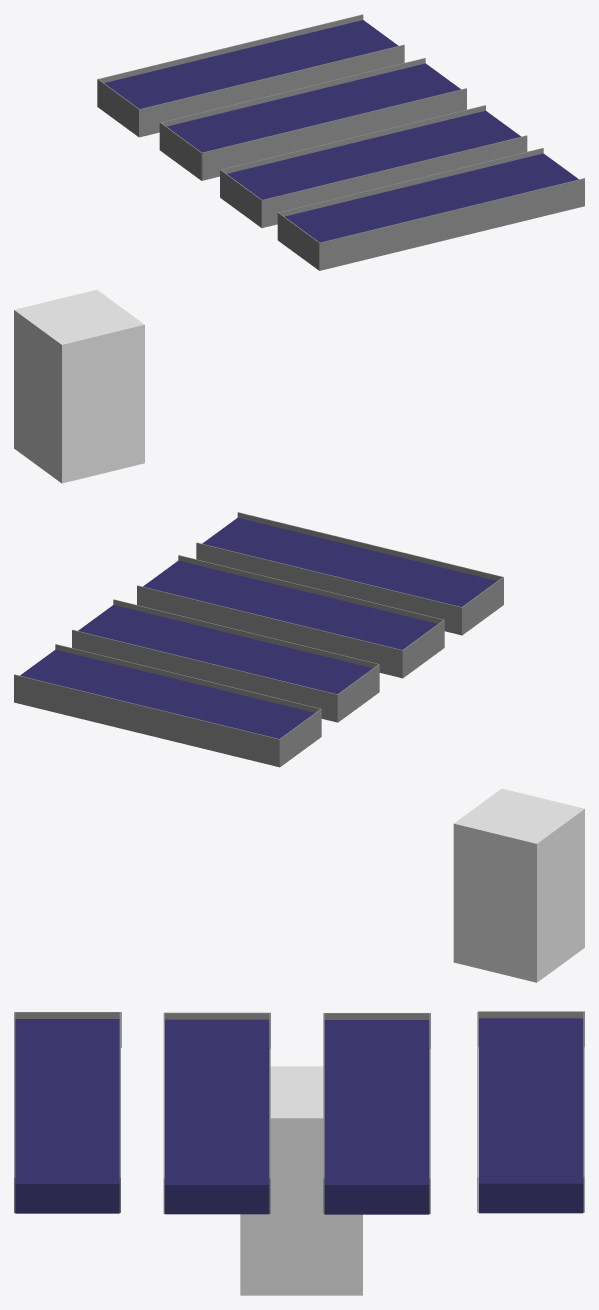
File: cell_layout.glb
The picture shows the model from 3 angles, top to bottom: view 1: azimuth 30°, elevation 25°; view 2: azimuth 150°, elevation 25°; view 3: azimuth 270°, elevation 25°; orthographic projection. The views are drawn at different scales.
Parts seen in each view (by area): view 1: Esteira1 (×4), ChapaFrontal.003 (×4), Pedestal, ChapaFrontal.001 (×4), ChapaFrontal (×4); view 2: Esteira1 (×4), ChapaFrontal.001 (×4), Pedestal, ChapaFrontal.003 (×4), ChapaFrontal (×4); view 3: Esteira1 (×4), Pedestal, ChapaFrontal (×4), ChapaFrontal.003 (×4), ChapaFrontal.001 (×4).
Part boxes in pixels (x1=…): Esteira1 (×4): x1=104, y1=20, x2=578, y2=270; ChapaFrontal.003 (×4): x1=139, y1=44, x2=584, y2=270; Pedestal: x1=14, y1=289, x2=144, y2=483; ChapaFrontal.001 (×4): x1=99, y1=14, x2=543, y2=216; ChapaFrontal (×4): x1=97, y1=79, x2=319, y2=270; Esteira1 (×4): x1=20, y1=517, x2=496, y2=738; ChapaFrontal.001 (×4): x1=14, y1=542, x2=461, y2=766; Pedestal: x1=453, y1=788, x2=584, y2=982; ChapaFrontal.003 (×4): x1=55, y1=512, x2=502, y2=712; ChapaFrontal (×4): x1=279, y1=577, x2=503, y2=767; Esteira1 (×4): x1=15, y1=1018, x2=583, y2=1214; Pedestal: x1=240, y1=1066, x2=362, y2=1295; ChapaFrontal (×4): x1=15, y1=1011, x2=584, y2=1048; ChapaFrontal.003 (×4): x1=14, y1=1011, x2=478, y2=1213; ChapaFrontal.001 (×4): x1=119, y1=1012, x2=584, y2=1213.
Size of what is drawn, in the model's own units: 4.96 by 2.86 by 4.38.
